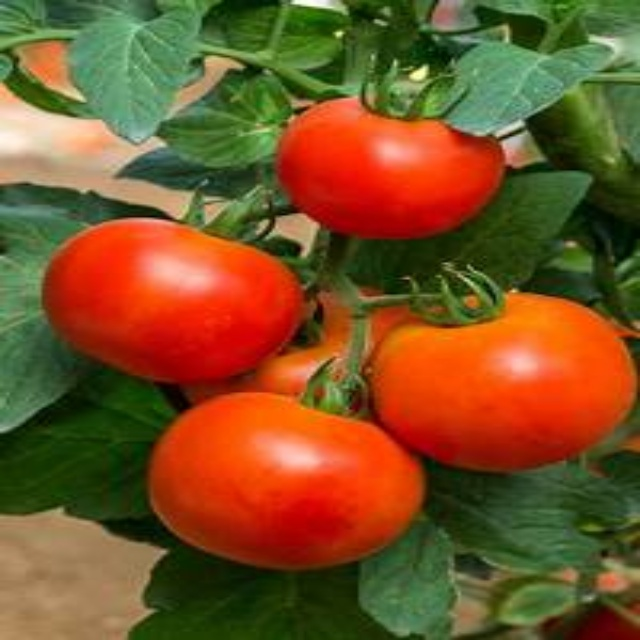tomato: (368, 283, 626, 480), (162, 376, 411, 568), (38, 217, 319, 385), (281, 76, 505, 251)
